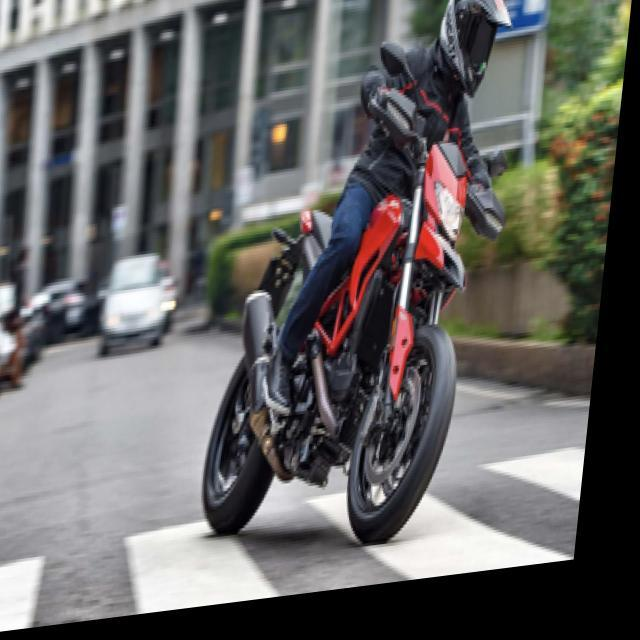Helmet: (432, 0, 516, 105)
